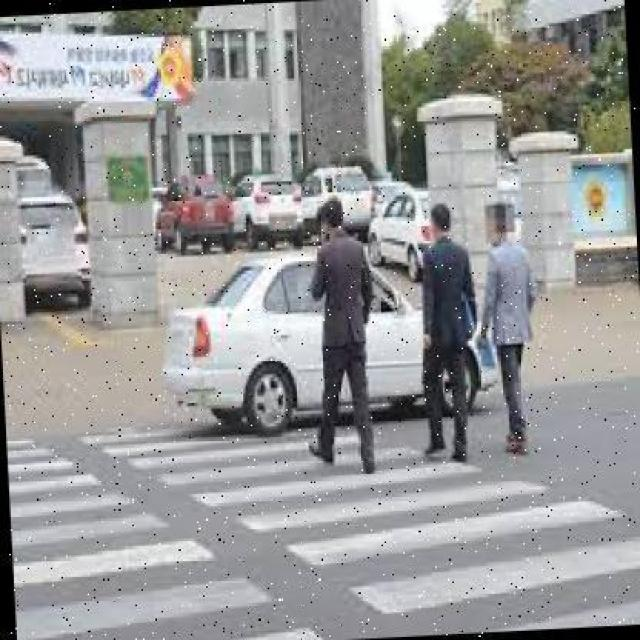Person: (293, 196, 379, 478), (408, 202, 484, 467), (471, 202, 544, 456)
